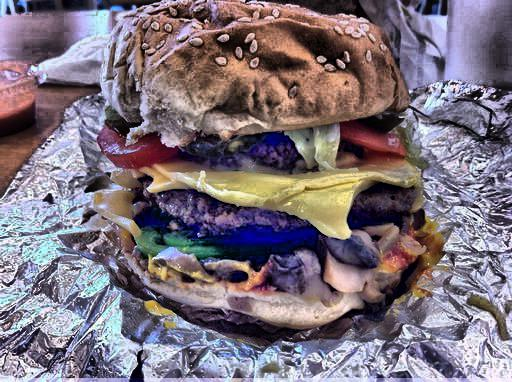burger: (73, 12, 427, 319)
